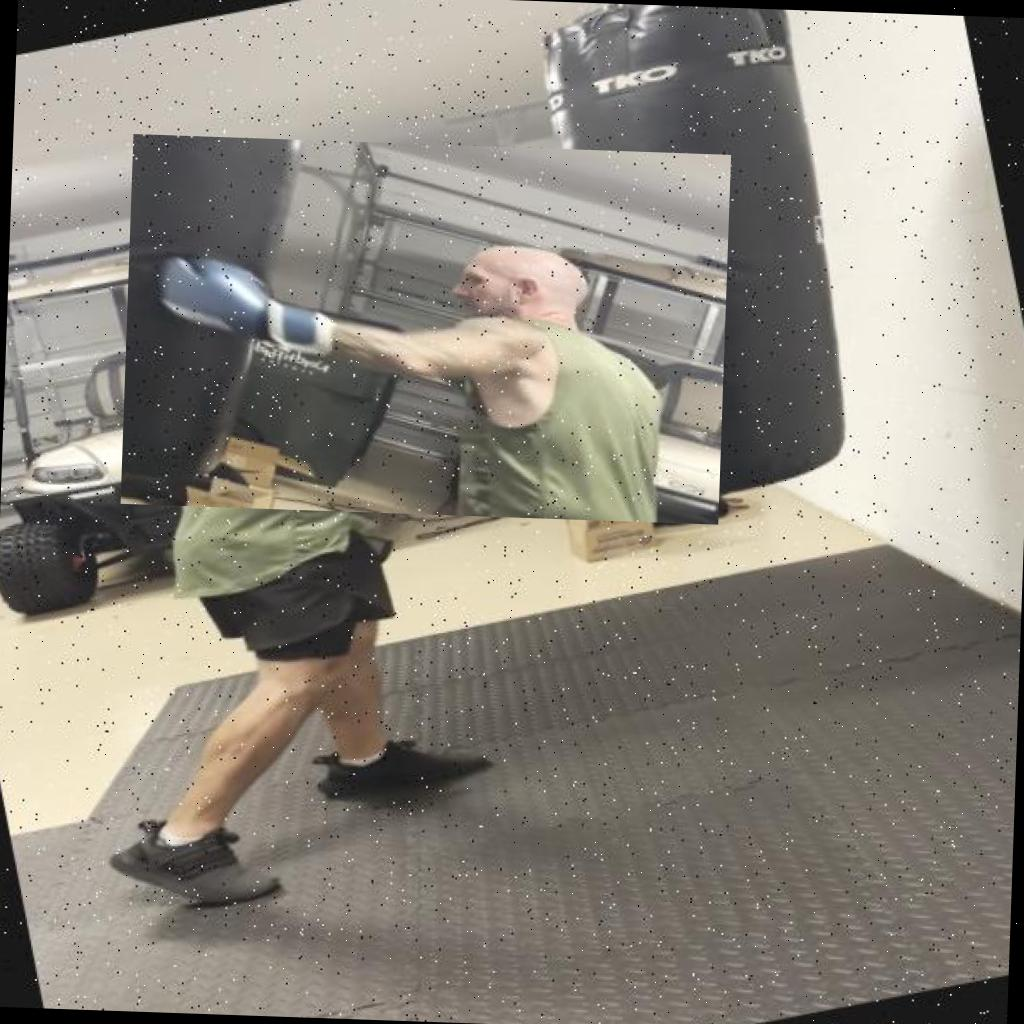bag: (493, 0, 910, 535)
hook: (120, 134, 731, 524)
